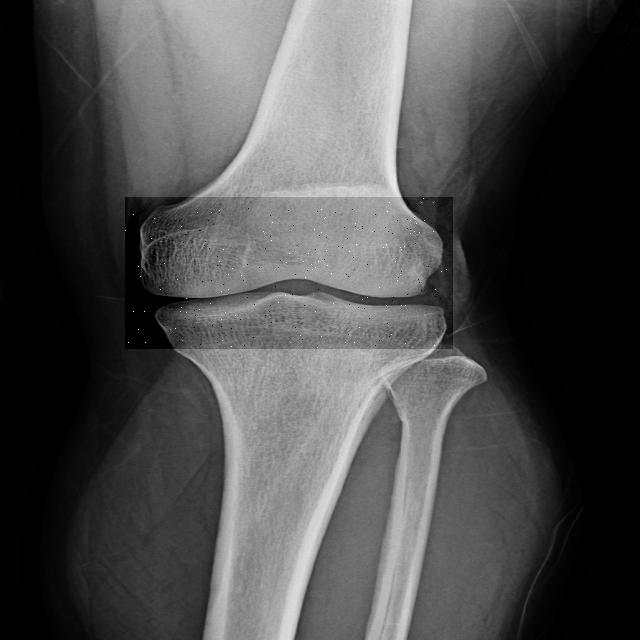osteo: (125, 197, 453, 349)
